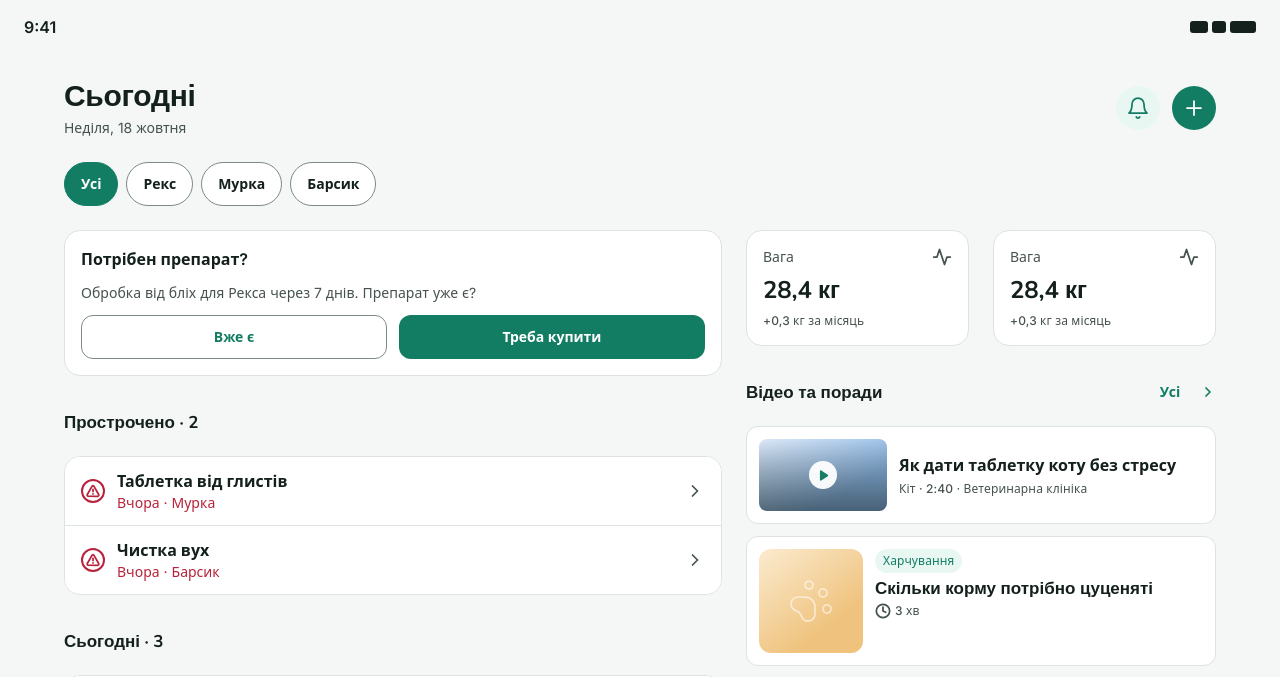
Test: Екран «Сьогодні» › фільтр за улюбленцем залишає лише його події
This screenshot has width=1280, height=677.
Click the radio button labelled "Мурка" at [242, 184], box [201,162,282,206]
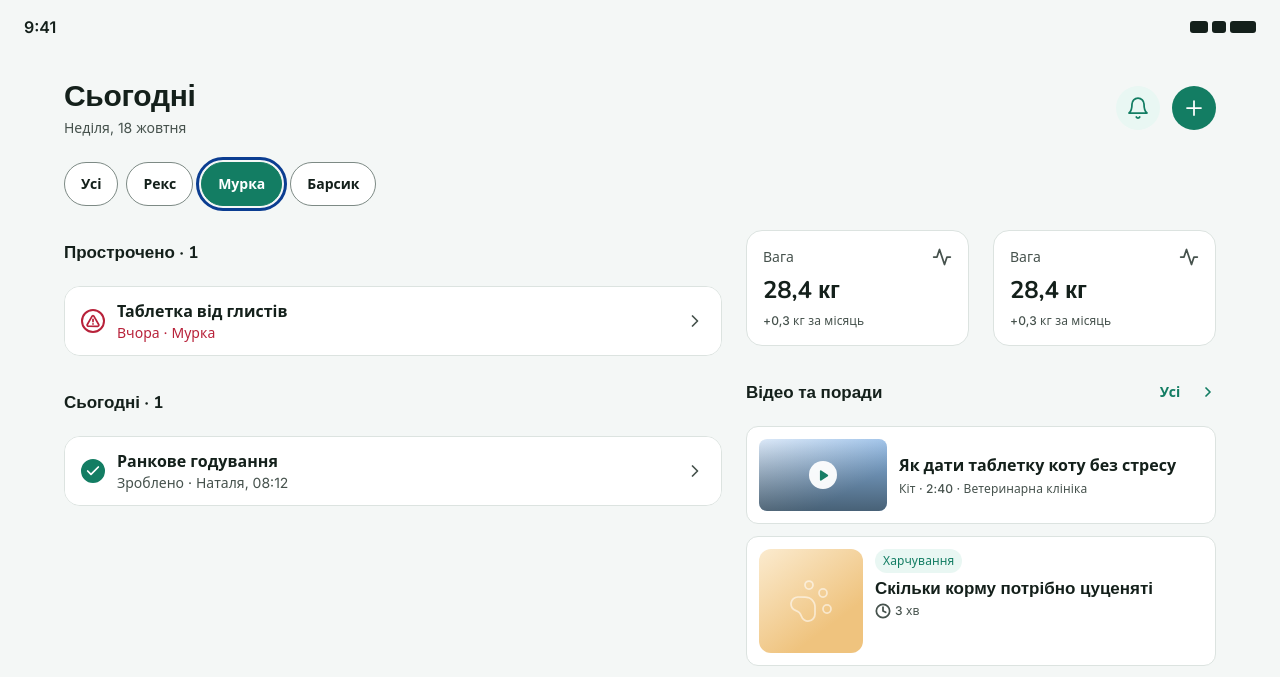
Expected: the checkbox named "Таблетка від глистів" below "Прострочено · 1" is shown, [71,299,115,343]
Expected: the button "Чистка вух" is gone
